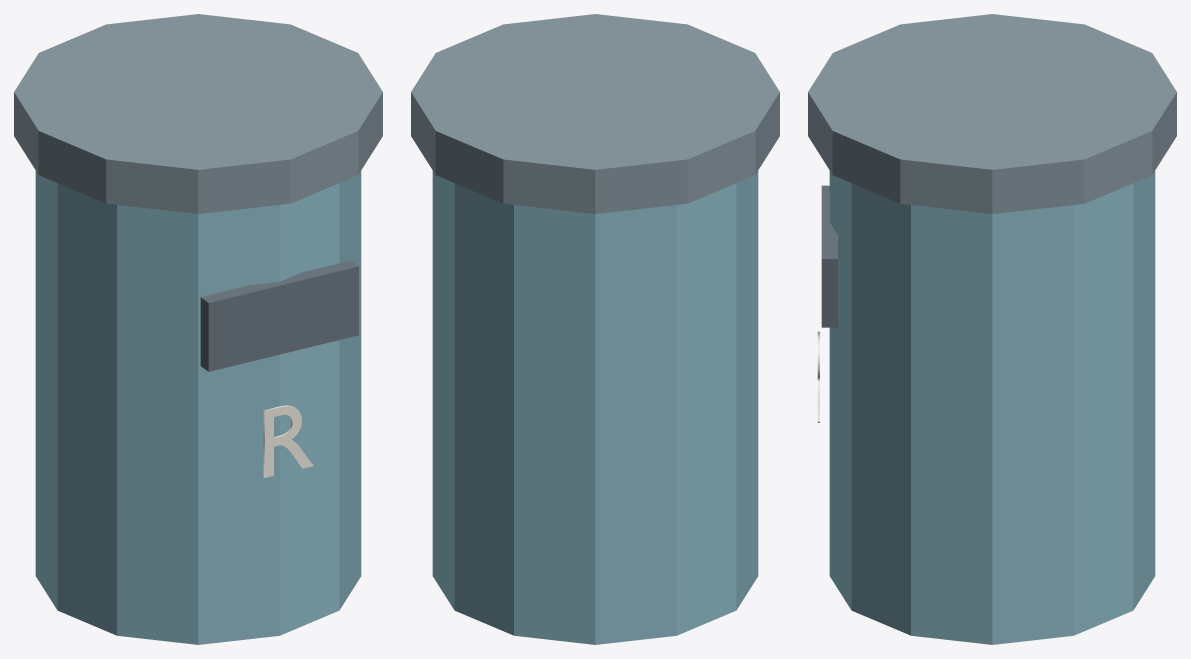
File: recycling_bin.glb
3 views of the same model, side by side, from view 1: azimuth 30°, elevation 25°; view 2: azimuth 150°, elevation 25°; view 3: azimuth 270°, elevation 25° (orthographic).
Visible parts, largest first — view 1: recycling_bin_000, recycling_bin_001, recycling_bin_002, recycling_bin_003; view 2: recycling_bin_000, recycling_bin_001; view 3: recycling_bin_000, recycling_bin_001, recycling_bin_002.
Boxes of the visible parts, x1,y1,x2,y2 form: recycling_bin_000: (35, 171, 361, 644); recycling_bin_001: (14, 14, 382, 213); recycling_bin_002: (200, 260, 358, 371); recycling_bin_003: (263, 405, 313, 477); recycling_bin_000: (432, 171, 758, 644); recycling_bin_001: (411, 14, 779, 213); recycling_bin_000: (829, 171, 1155, 644); recycling_bin_001: (808, 14, 1176, 213); recycling_bin_002: (821, 185, 837, 327).
Size of the model in its own units: 0.68 by 0.985 by 0.68.
